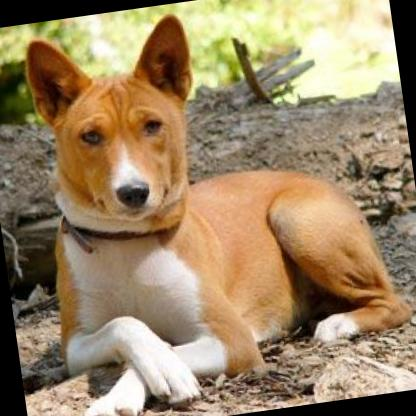basenji: (3, 0, 416, 416)
